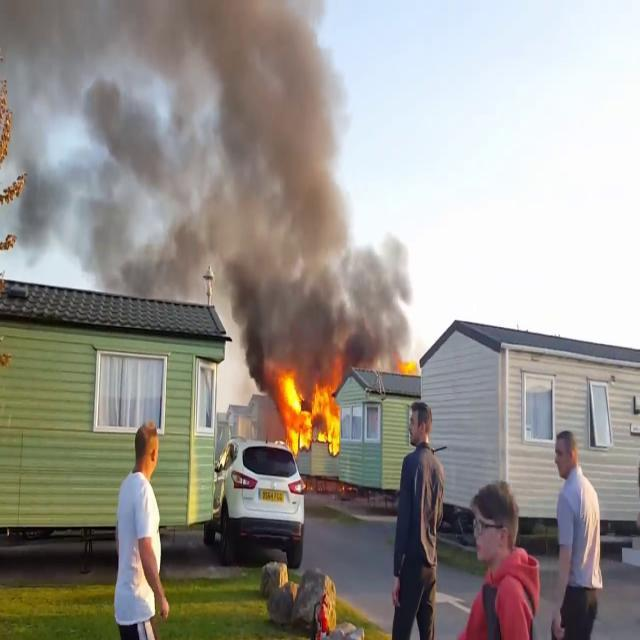Fire: (274, 366, 342, 456)
Smoke: (1, 0, 420, 352)
